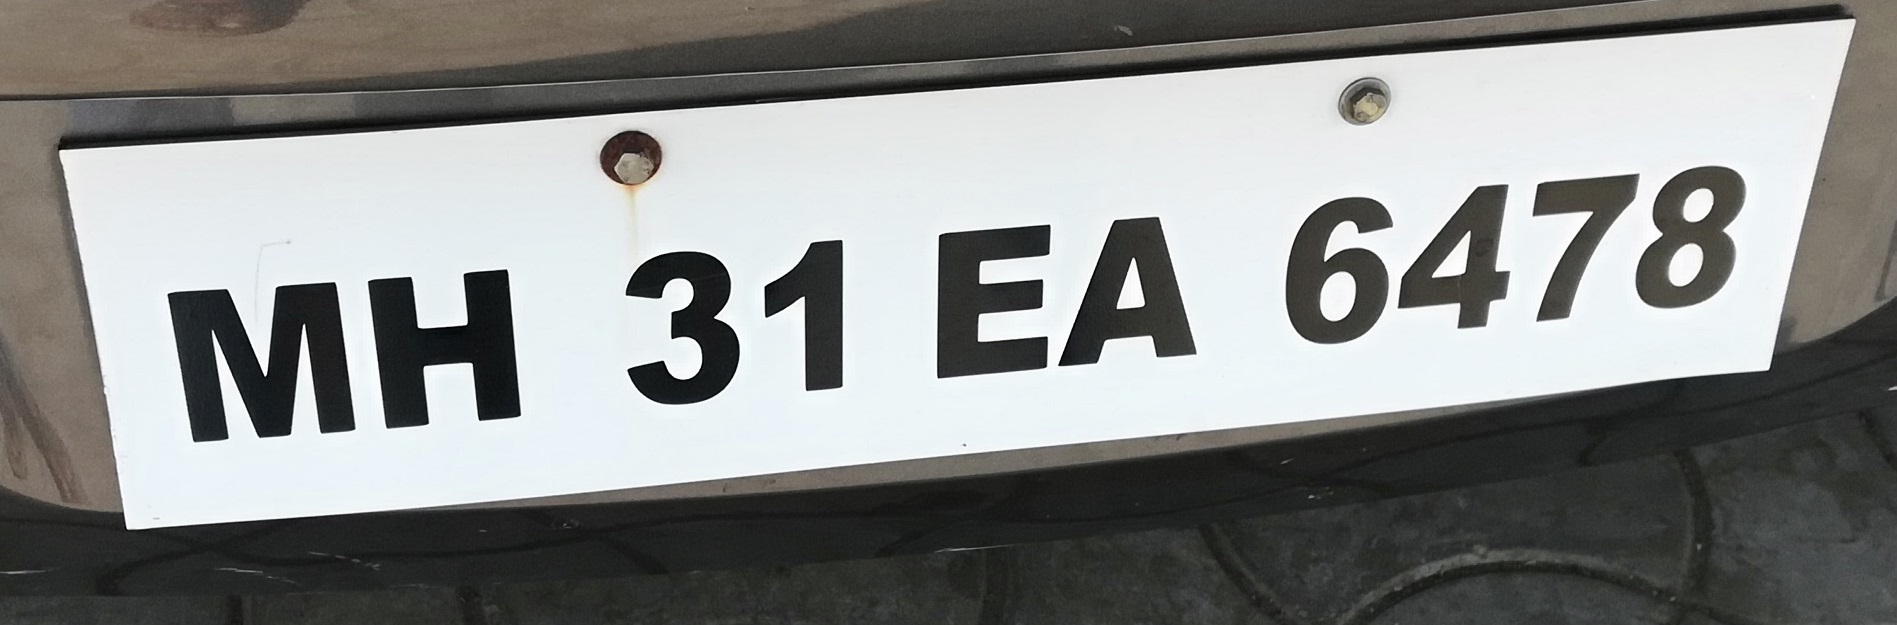numberplate: (83, 12, 1858, 531)
